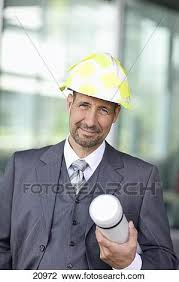Person_wearing_helmet: (59, 46, 129, 108)
